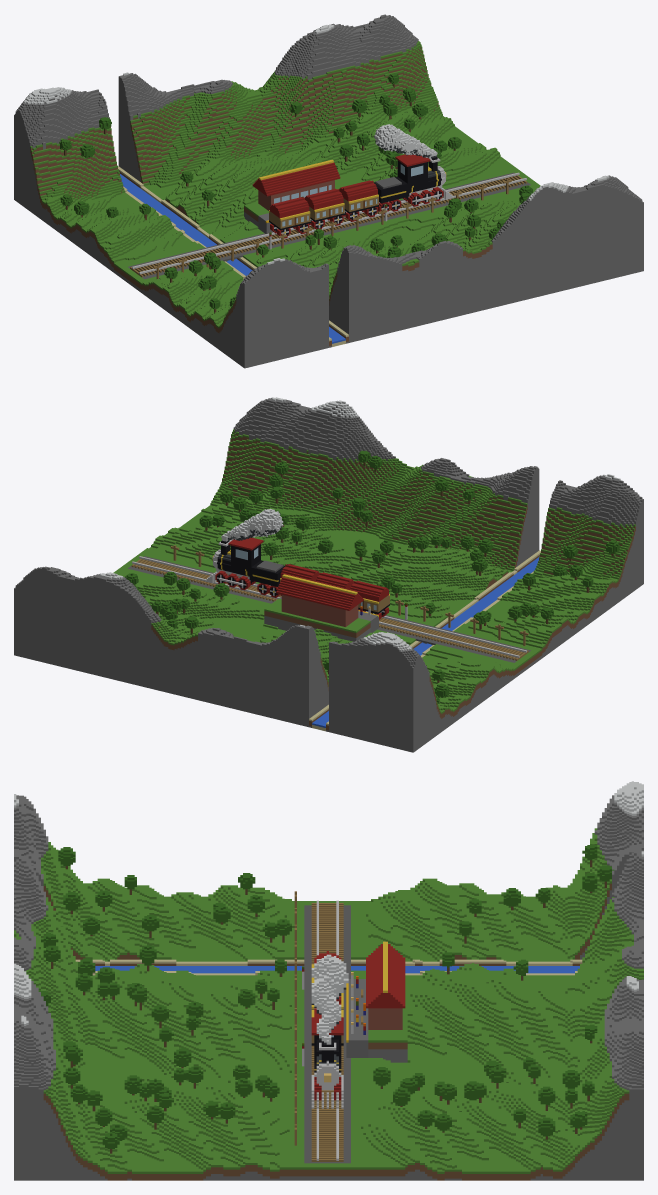
The picture shows the model from 3 angles, top to bottom: view 1: azimuth 30°, elevation 25°; view 2: azimuth 150°, elevation 25°; view 3: azimuth 270°, elevation 25°; orthographic projection. The views are drawn at different scales.
Bounding box in the file's own units: 256 × 67 × 256.
